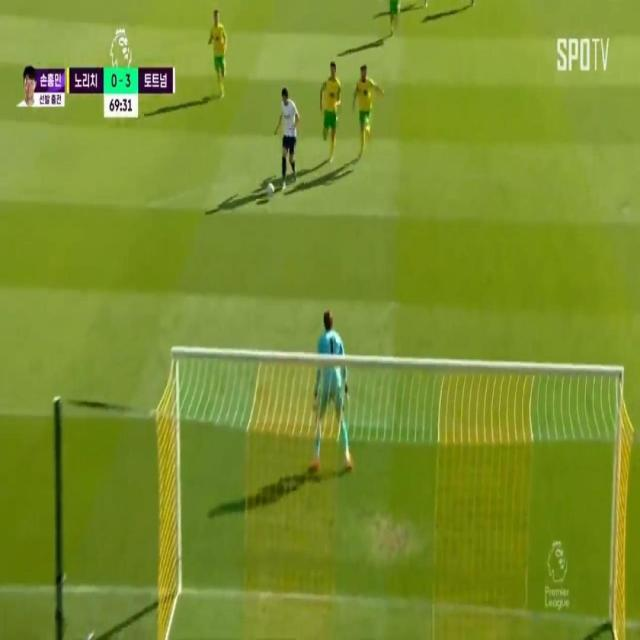ball: (266, 175, 277, 203)
goalkeeper: (304, 307, 358, 489)
player: (275, 87, 302, 179), (321, 62, 341, 162), (355, 65, 375, 151), (209, 9, 228, 99), (377, 5, 419, 35), (401, 32, 402, 34)
